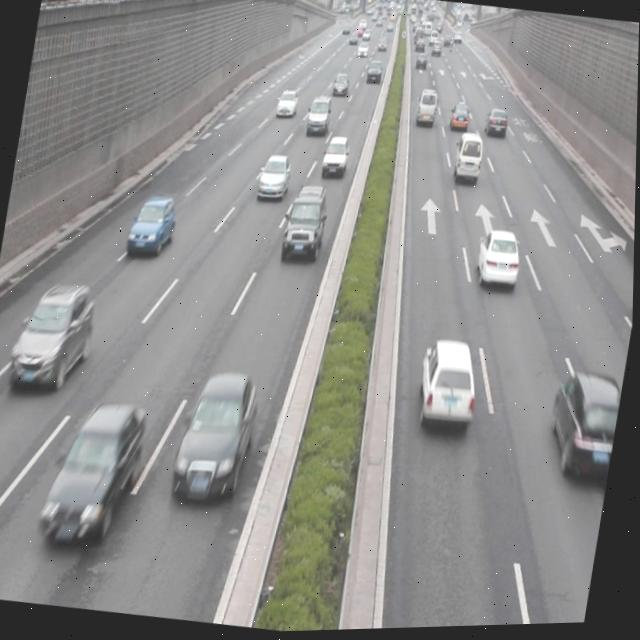car: (38, 395, 149, 550), (170, 364, 263, 509), (9, 276, 99, 395), (543, 370, 626, 487), (416, 337, 485, 430), (280, 183, 331, 263), (126, 192, 180, 260), (475, 230, 524, 291), (256, 154, 294, 206), (320, 136, 351, 181), (482, 108, 509, 145), (276, 89, 300, 122), (449, 103, 472, 134)
truck: (453, 133, 485, 185), (305, 95, 334, 141), (415, 90, 439, 129)
